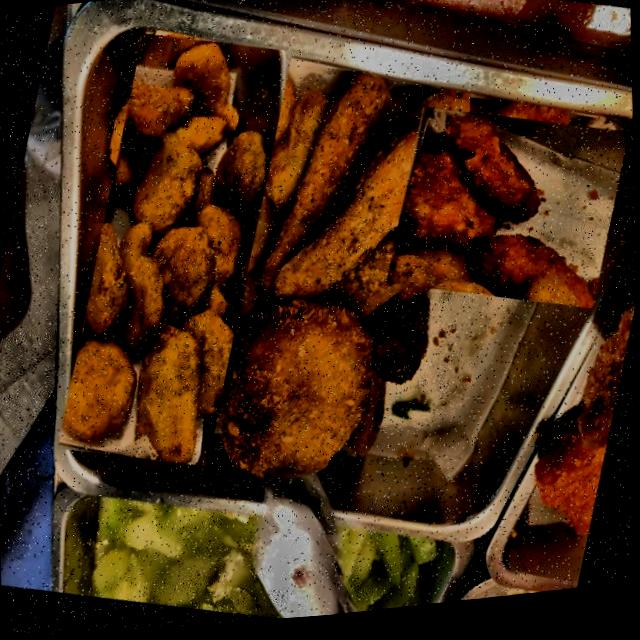Food: (43, 21, 307, 485), (386, 87, 630, 342)
